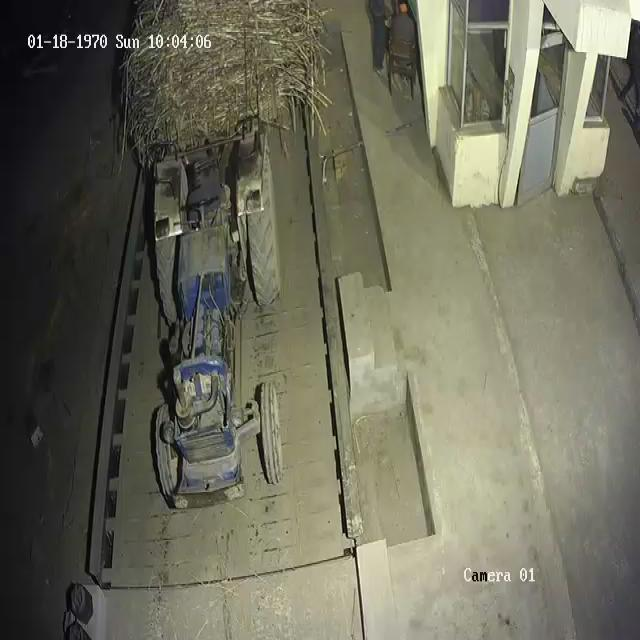Tratores - v5 YOLO V8L 2024-11-13: (144, 145, 287, 507)
